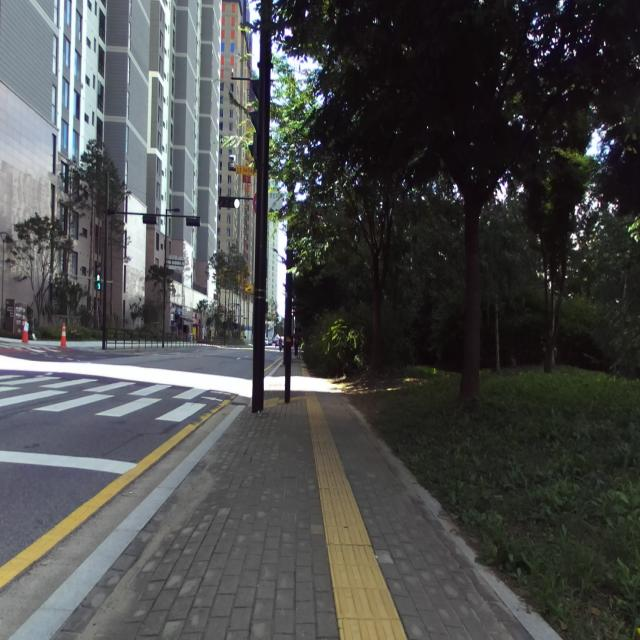초록불: (95, 266, 101, 290)
횡단보도: (0, 374, 210, 424)
